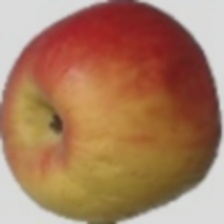apple: (25, 3, 166, 188)
